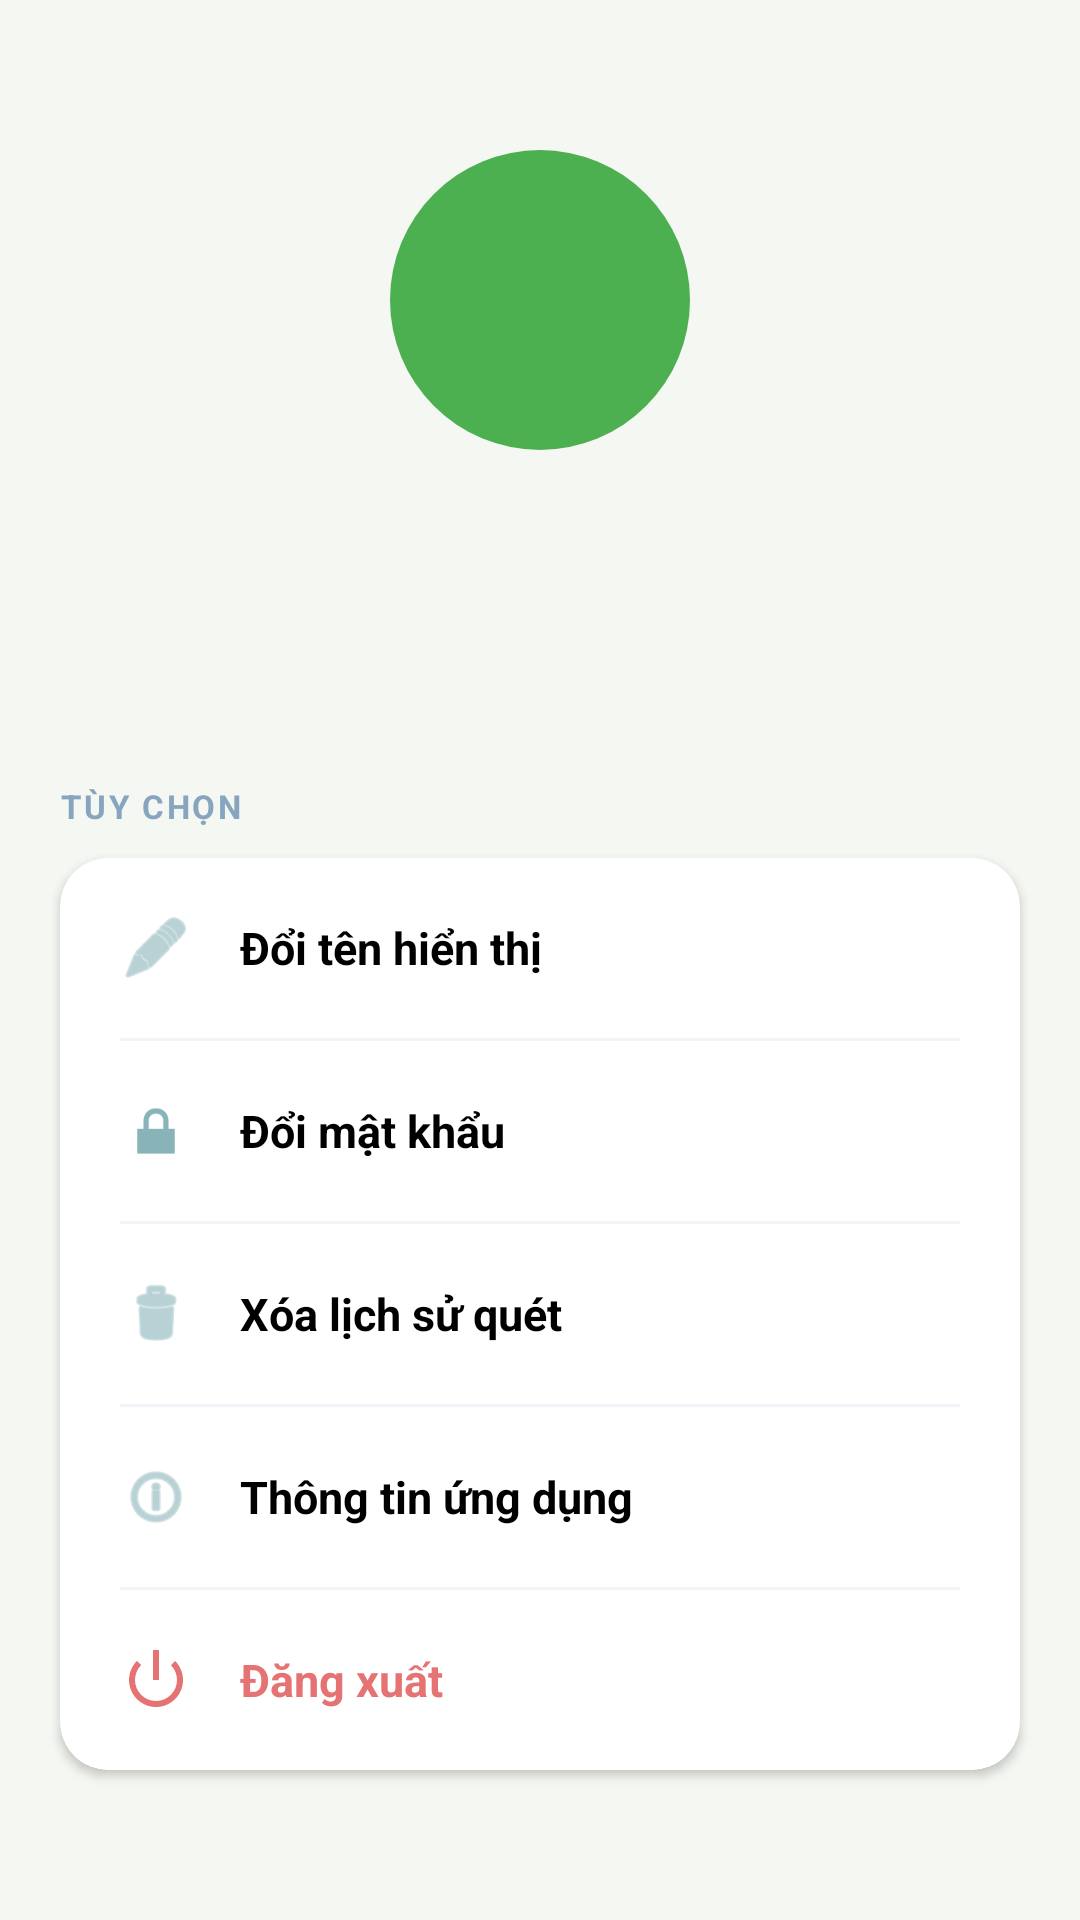

Icons on this 1080×1920 Android screen, each with its box as (x1, y1, x2, y2):
delete: (136, 1285, 176, 1341)
edit: (125, 917, 186, 978)
info details: (130, 1471, 182, 1523)
lock: (137, 1108, 175, 1154)
lock power off: (129, 1650, 183, 1707)
